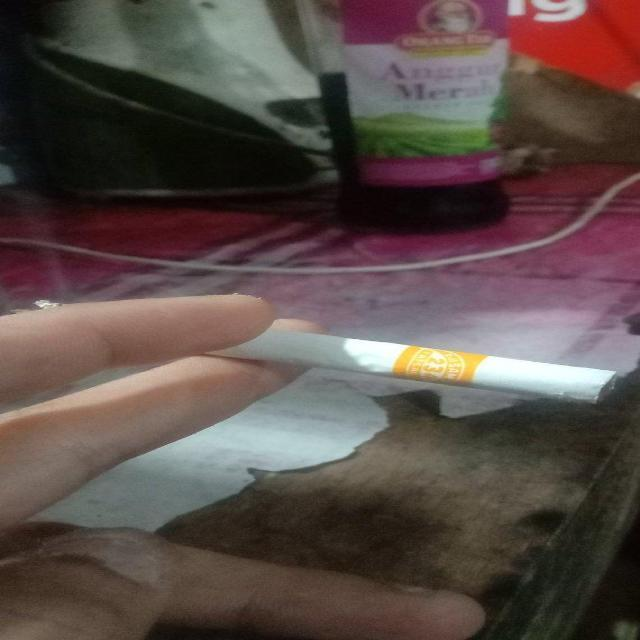rokok: (21, 293, 606, 407)
